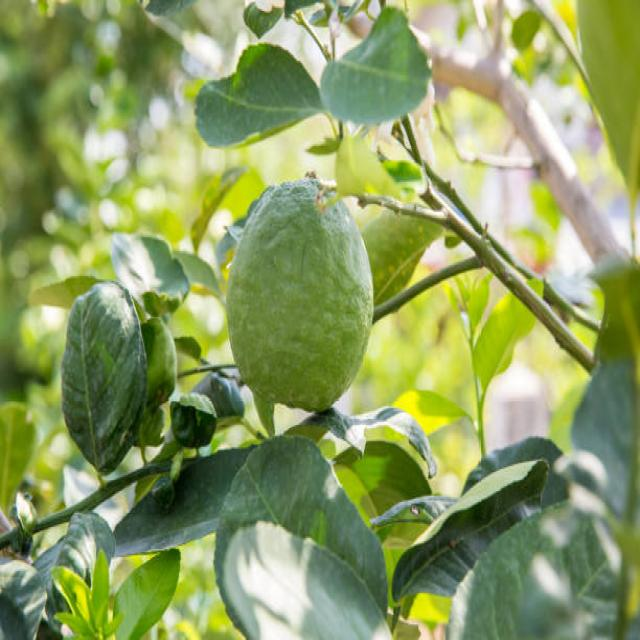Unripe: (226, 178, 372, 415)
